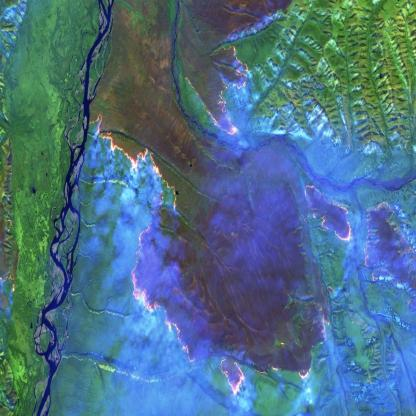fire: (77, 1, 416, 400)
